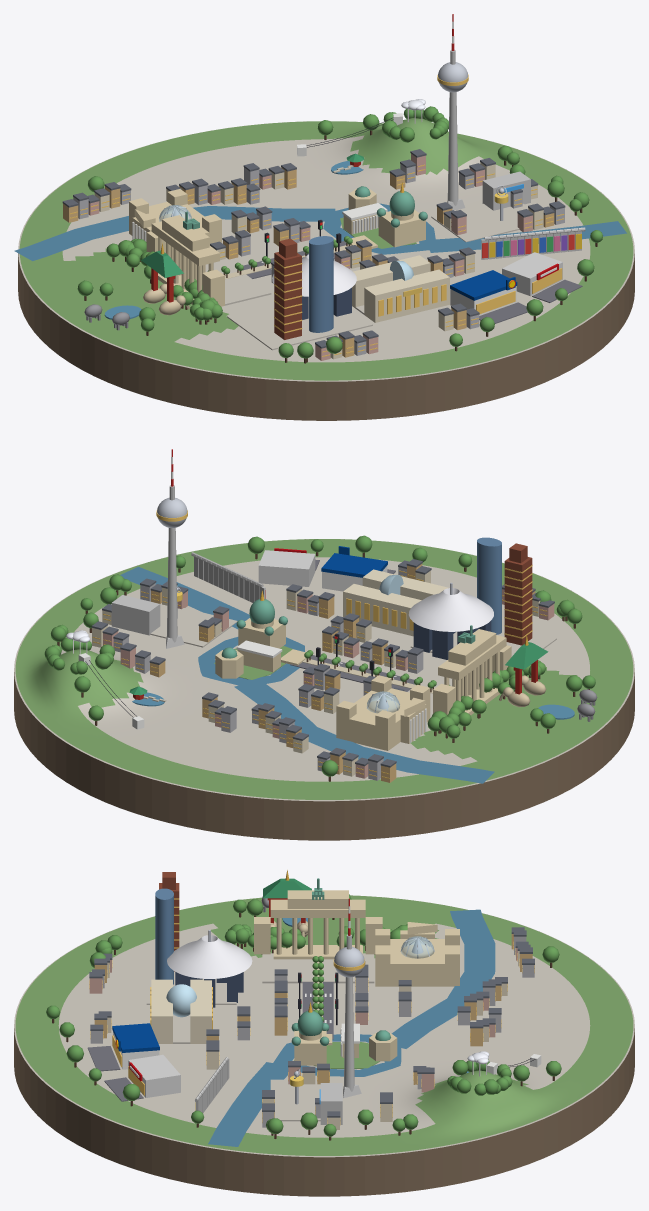
Rendered from berlin.glb.
3 renders of one model, top to bottom at view 1: azimuth 30°, elevation 25°; view 2: azimuth 150°, elevation 25°; view 3: azimuth 270°, elevation 25°, orthographic.
Parts seen in each view (by area): view 1: DECO-land, DECO-base, DECO-blocks, DECO-trees, DECO-spree-west, mb-wing--1, pp-db-tower, pp-plaza, pp-kollhoff, alex-square, mb-wing-1, DECO-spree-east (+15 smaller); view 2: DECO-land, DECO-base, DECO-blocks, DECO-trees, DECO-spree-west, sc-roof, rt-body, pp-kollhoff, pp-db-tower, mb-wing-1, rewe-store, alex-kaufhof (+23 smaller); view 3: DECO-land, DECO-base, DECO-blocks, DECO-trees, DECO-spree-west, sc-roof, DECO-spree-east, rt-body, bt-pariser-platz, pp-db-tower, alex-square, rewe-store (+26 smaller).
Boxes of the visible parts, x1,y1,x2,y2 form: DECO-land: (19,118,633,380); DECO-base: (18,121,634,420); DECO-blocks: (62,149,565,360); DECO-trees: (77,106,602,363); DECO-spree-west: (14,206,335,261); mb-wing--1: (364,269,449,322); pp-db-tower: (309,236,333,332); pp-plaza: (227,297,372,350); pp-kollhoff: (274,252,301,339); alex-square: (431,203,528,242); mb-wing-1: (352,255,430,308); DECO-spree-east: (426,221,626,252); DECO-land: (15,539,633,799); DECO-base: (14,539,634,840); DECO-blocks: (91,559,554,782); DECO-trees: (44,535,595,781); DECO-spree-west: (234,681,494,783); sc-roof: (408,588,493,631); rt-body: (336,688,430,750); pp-kollhoff: (504,557,532,645); pp-db-tower: (477,537,501,634); mb-wing-1: (343,584,421,636); rewe-store: (258,550,315,586); alex-kaufhof: (111,595,160,635); DECO-land: (15,895,633,1155); DECO-base: (14,895,634,1196); DECO-blocks: (89,927,534,1129); DECO-trees: (46,894,561,1140); DECO-spree-west: (391,909,495,1048); sc-roof: (167,935,252,978); DECO-spree-east: (208,1062,288,1146); rt-body: (375,939,459,986); bt-pariser-platz: (262,953,374,983); pp-db-tower: (155,888,173,984); alex-square: (270,1079,340,1121); rewe-store: (128,1054,180,1097).
Size of the model in its own units: 2 by 0.835 by 2.
